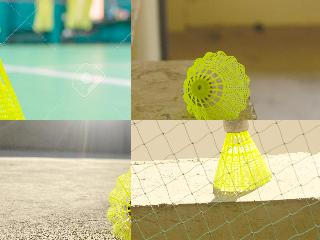shuttlecock: (183, 50, 250, 119), (213, 120, 272, 191), (0, 4, 36, 119), (106, 158, 130, 239)
